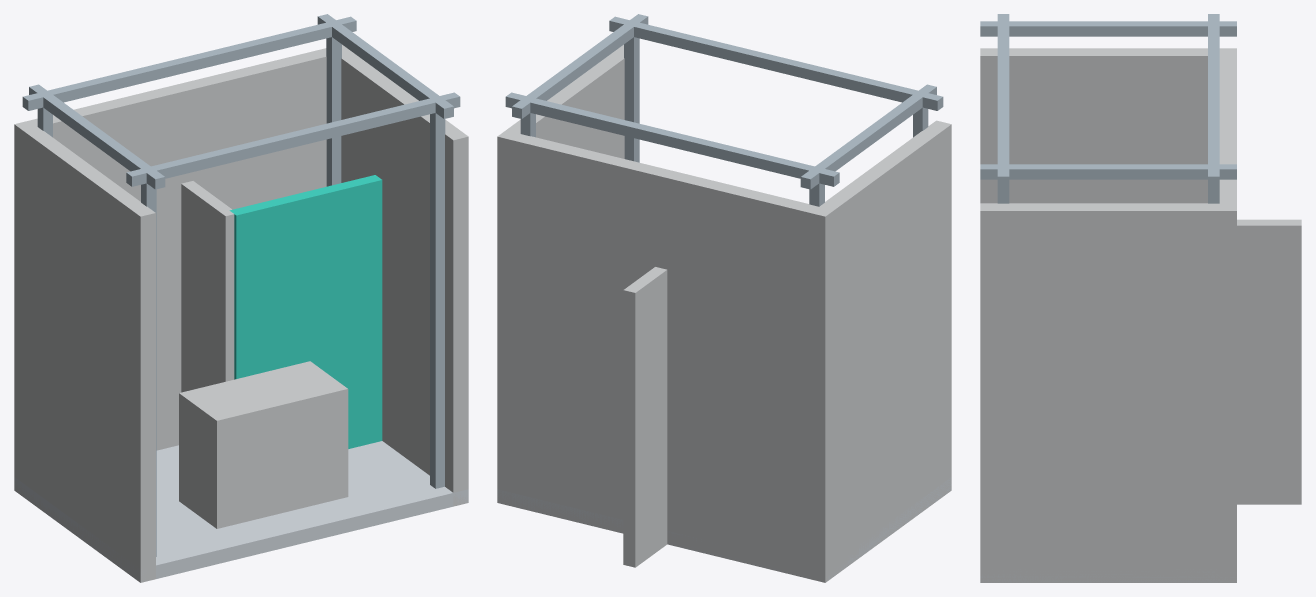
3 views of the same model, side by side, from view 1: azimuth 30°, elevation 25°; view 2: azimuth 150°, elevation 25°; view 3: azimuth 270°, elevation 25° (orthographic).
Parts seen in each view (by area): view 1: Exhibition Booth Concept; view 2: Exhibition Booth Concept; view 3: Exhibition Booth Concept.
Part boxes in pixels (<box>): Exhibition Booth Concept: <box>14,14,468,582</box>; Exhibition Booth Concept: <box>497,14,951,582</box>; Exhibition Booth Concept: <box>980,14,1301,582</box>.
Bounding box in the file's own units: 3 × 3.49 × 2.5.
